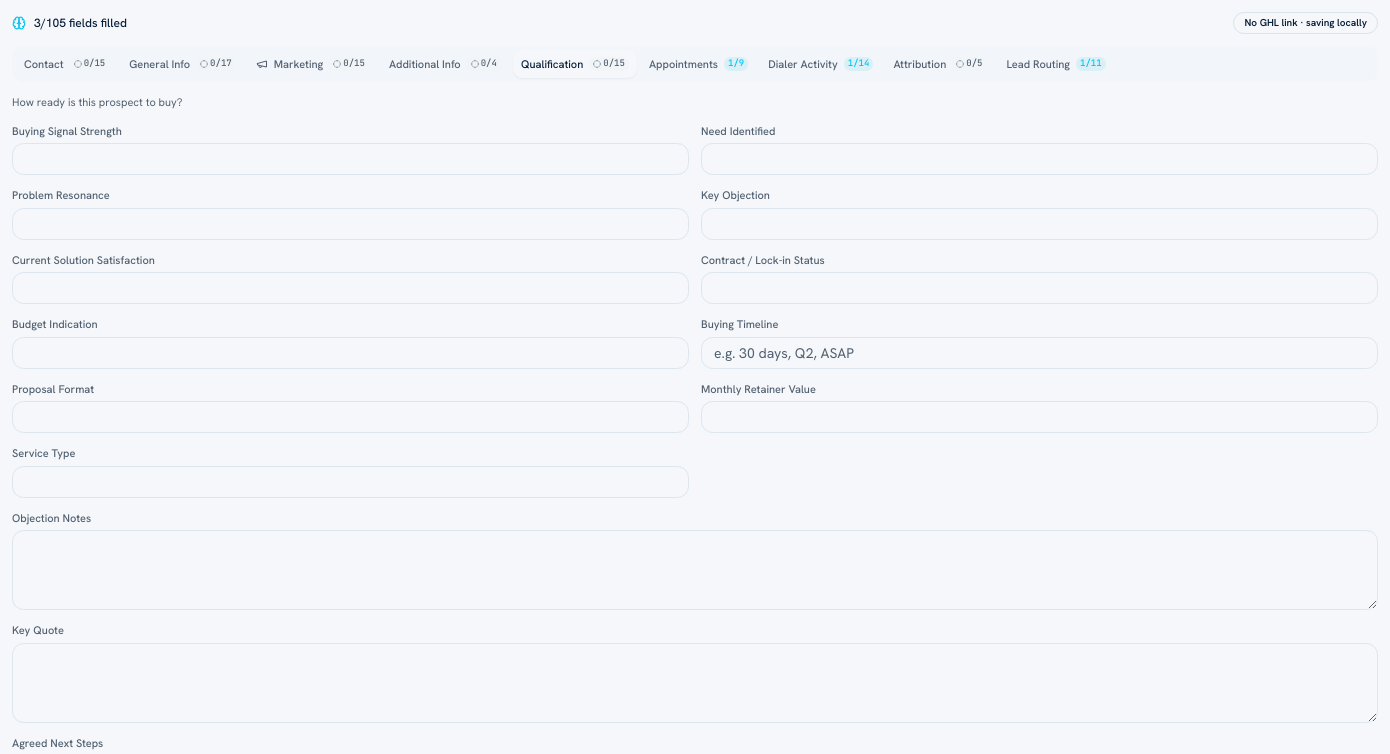
Scenario: Intelligence tab carries the dialer's fields and GHL's › shows dialer-owned values read-only and booking attribution from the latest meeting
Press the mouse on the tab "Appointments 1/9": (699, 64) [641, 50, 756, 78]
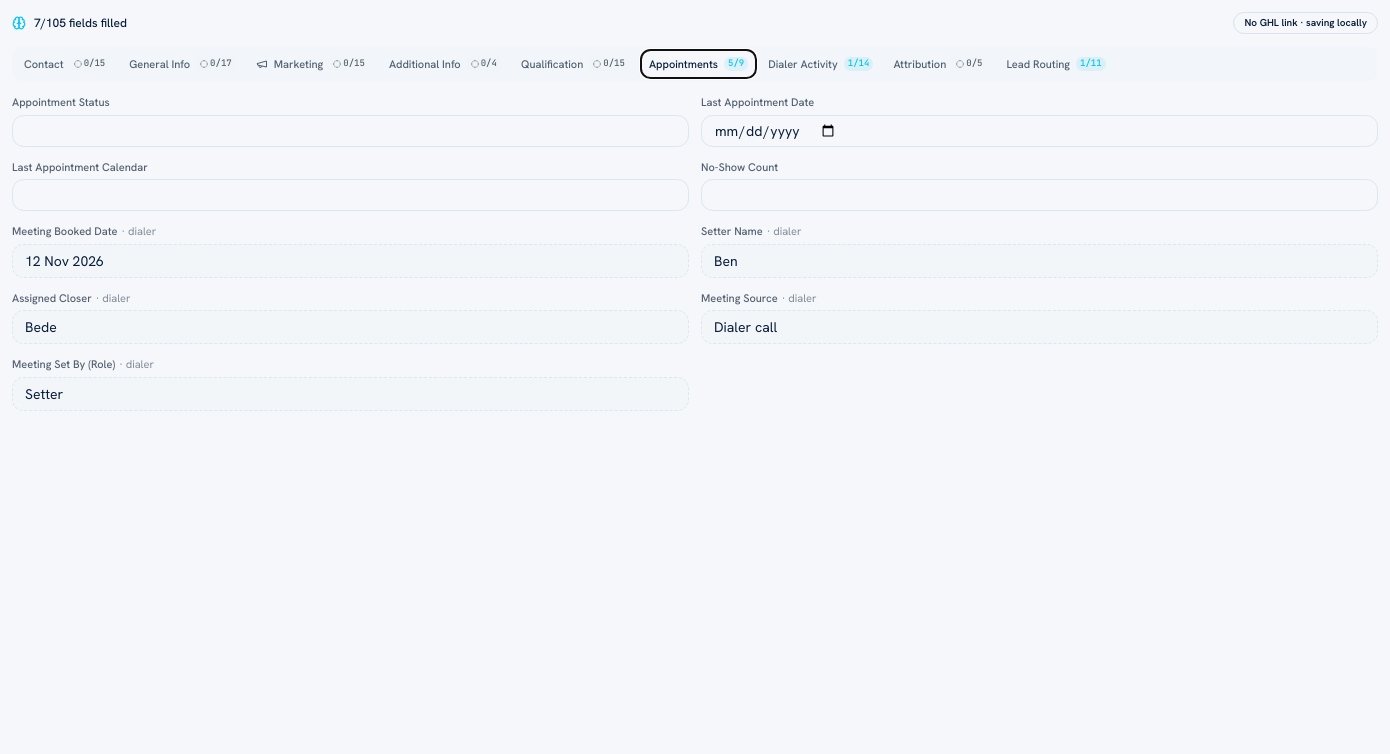
Expected: the text "Ben" is shown, [701, 244, 1378, 278]
Expected: the text "Bede" is shown, [12, 310, 689, 344]
Expected: the text "Dialer call" is shown, [701, 310, 1378, 344]
Press the mouse on the tab "Dialer Activity 1/14": (821, 64) [760, 50, 881, 78]
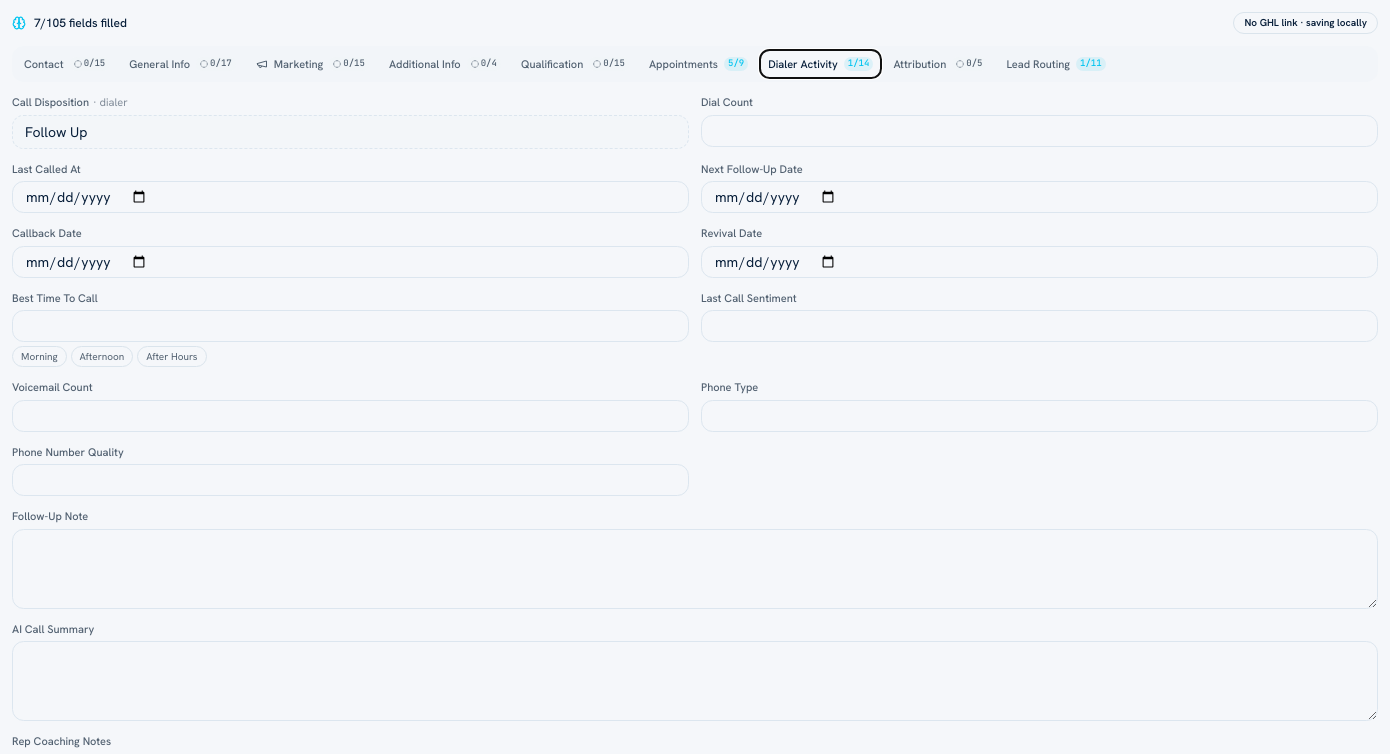
Press the mouse on the tab "Lead Routing 1/11": (1056, 64) [998, 50, 1114, 78]
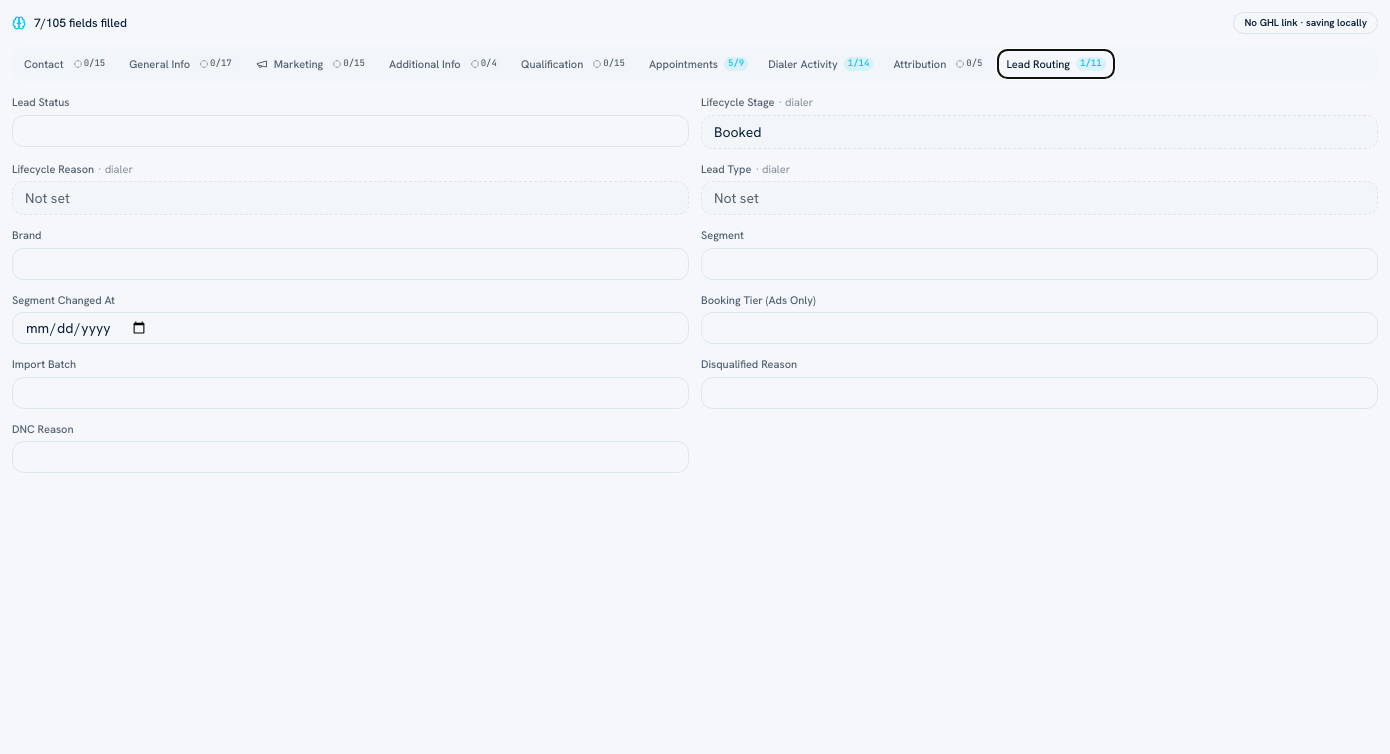
Expected: the text "Booked" is shown, [701, 114, 1378, 148]
